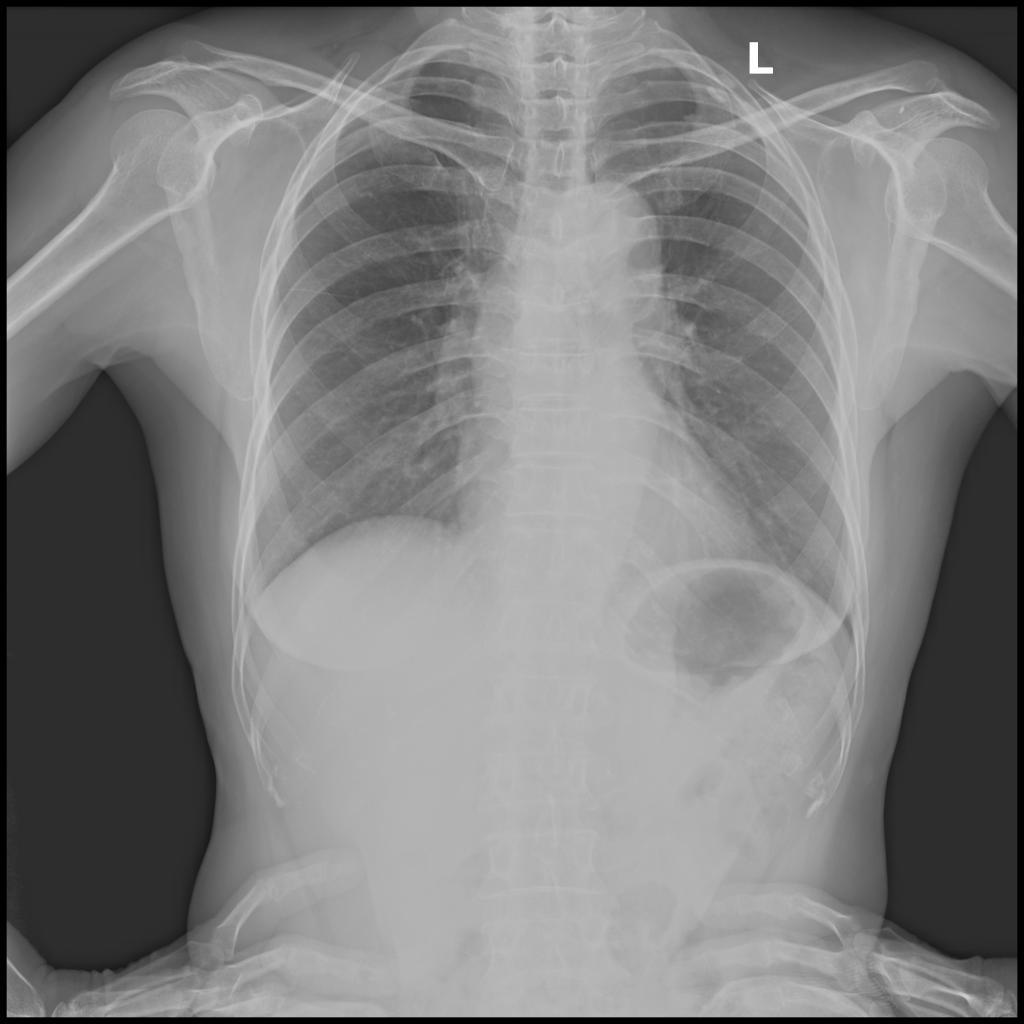Nodule: (719, 72, 738, 88), (682, 114, 705, 126)
